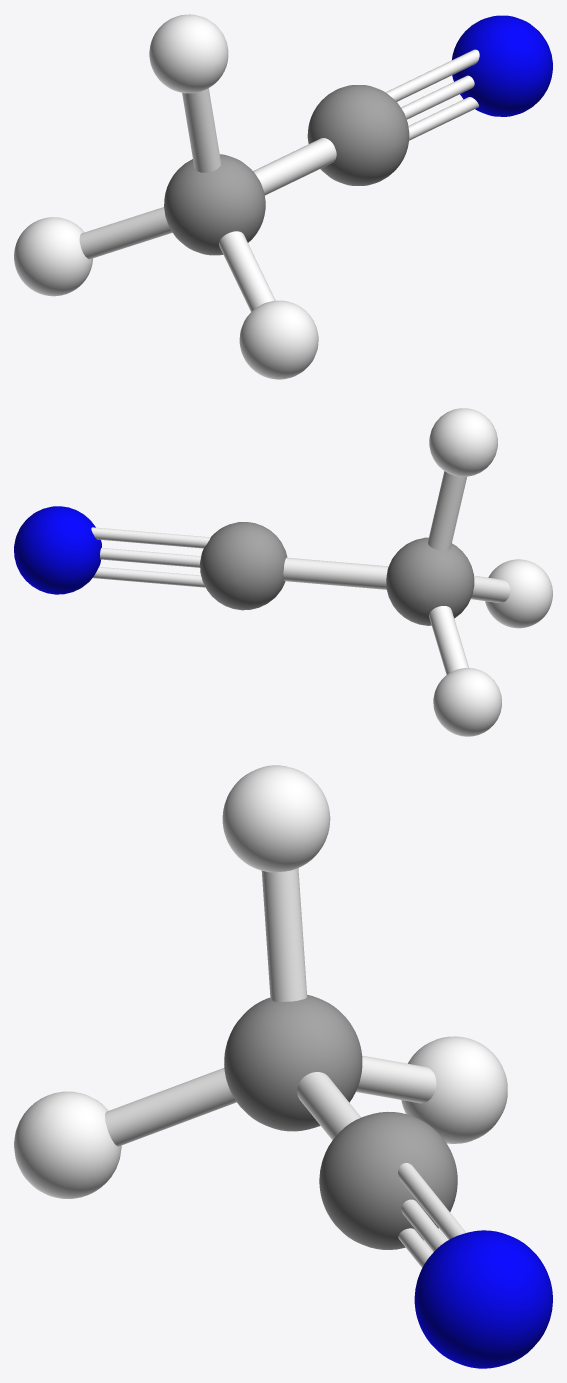
File: Acetonitrile.dae
3 renders of one model, top to bottom at view 1: azimuth 30°, elevation 25°; view 2: azimuth 150°, elevation 25°; view 3: azimuth 270°, elevation 25°, orthographic. The views are drawn at different scales.
Parts seen in each view (by area): view 1: Acetonitrile__01_Saturated__Isobutane_Butane__Isobutane_pCy_ (×7), Acetonitrile_Acetonitrile_Acetonitrile__01_Saturated__Isobu_ (×4), Acetonitrile__01_Saturated__Isobutane_Butane__Isobutane_pCyl, Acetonitrile_Acetonitrile_Acetonitrile__01_Saturated__Isobut; view 2: Acetonitrile__01_Saturated__Isobutane_Butane__Isobutane_pCy_ (×7), Acetonitrile_Acetonitrile_Acetonitrile__01_Saturated__Isobu_ (×4), Acetonitrile__01_Saturated__Isobutane_Butane__Isobutane_pCyl, Acetonitrile_Acetonitrile_Acetonitrile__01_Saturated__Isobut; view 3: Acetonitrile__01_Saturated__Isobutane_Butane__Isobutane_pCy_ (×7), Acetonitrile_Acetonitrile_Acetonitrile__01_Saturated__Isobu_ (×4), Acetonitrile__01_Saturated__Isobutane_Butane__Isobutane_pCyl.
Part boxes in pixels (x1,y1,x2,y2): Acetonitrile__01_Saturated__Isobutane_Butane__Isobutane_pCy_ (×7): (14,14,336,379); Acetonitrile_Acetonitrile_Acetonitrile__01_Saturated__Isobu_ (×4): (307,15,552,185); Acetonitrile__01_Saturated__Isobutane_Butane__Isobutane_pCyl: (182,88,220,172); Acetonitrile_Acetonitrile_Acetonitrile__01_Saturated__Isobut: (408,97,479,140); Acetonitrile__01_Saturated__Isobutane_Butane__Isobutane_pCy_ (×7): (283,408,552,736); Acetonitrile_Acetonitrile_Acetonitrile__01_Saturated__Isobu_ (×4): (14,506,287,610); Acetonitrile__01_Saturated__Isobutane_Butane__Isobutane_pCyl: (427,471,466,550); Acetonitrile_Acetonitrile_Acetonitrile__01_Saturated__Isobut: (93,567,205,587); Acetonitrile__01_Saturated__Isobutane_Butane__Isobutane_pCy_ (×7): (14,765,507,1198); Acetonitrile_Acetonitrile_Acetonitrile__01_Saturated__Isobu_ (×4): (319,1111,552,1368); Acetonitrile__01_Saturated__Isobutane_Butane__Isobutane_pCyl: (261,868,307,1001).
Bounding box in the file's own units: 1.94 × 1.24 × 1.05.
